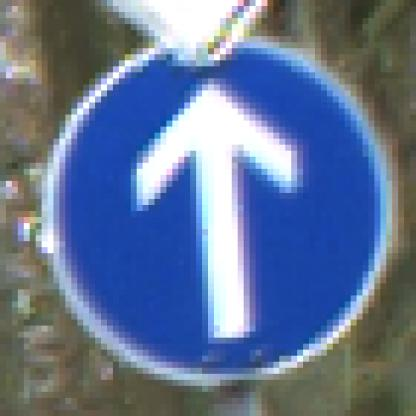AheadOnly: (43, 37, 381, 381)
